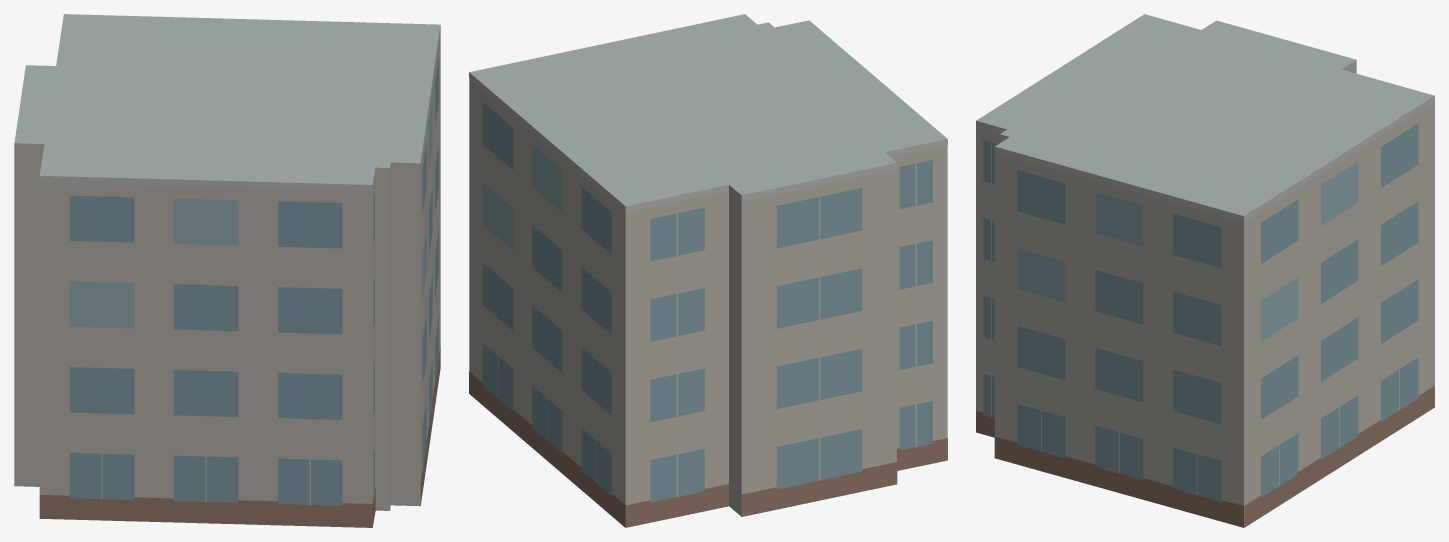
File: survey-upis-32926443.glb
The picture shows the model from 3 angles, left to right: view 1: azimuth 30°, elevation 25°; view 2: azimuth 150°, elevation 25°; view 3: azimuth 270°, elevation 25°; orthographic projection. The views are drawn at different scales.
Visible parts, largest first — view 1: survey-upis-32926443.tmp; view 2: survey-upis-32926443.tmp; view 3: survey-upis-32926443.tmp.
Boxes of the visible parts, left/top/right/bottom form: survey-upis-32926443.tmp: left=14, top=14, right=440, bottom=527; survey-upis-32926443.tmp: left=469, top=14, right=947, bottom=527; survey-upis-32926443.tmp: left=976, top=14, right=1434, bottom=527.
Bounding box in the file's own units: 17.67 × 12.7 × 16.95.
